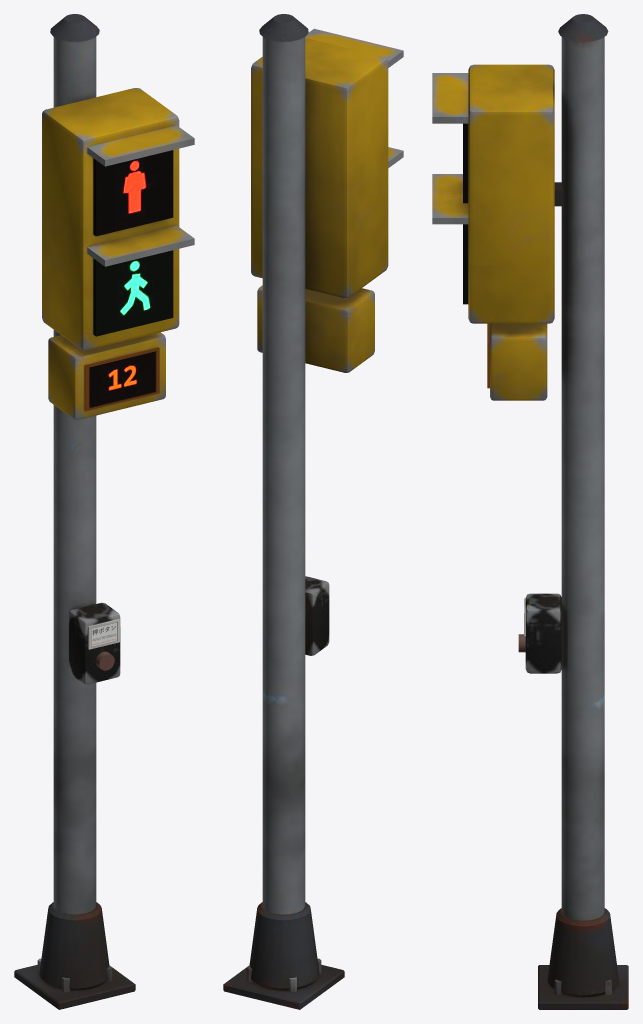
File: ped_signal.glb
The picture shows the model from 3 angles, left to right: view 1: azimuth 30°, elevation 25°; view 2: azimuth 150°, elevation 25°; view 3: azimuth 270°, elevation 25°; orthographic projection.
Parts seen in each view (by area): view 1: ped_signal, Ped_A_Walk, Ped_A_Stop, Ped_A_Count; view 2: ped_signal; view 3: ped_signal, Ped_A_Walk, Ped_A_Stop.
Part boxes in pixels (left/top/right/bottom): ped_signal: left=14, top=14, right=194, bottom=1009; Ped_A_Walk: left=93, top=250, right=173, bottom=336; Ped_A_Stop: left=93, top=150, right=173, bottom=236; Ped_A_Count: left=84, top=347, right=159, bottom=411; ped_signal: left=223, top=14, right=403, bottom=1009; ped_signal: left=432, top=14, right=628, bottom=1009; Ped_A_Walk: left=463, top=224, right=468, bottom=304; Ped_A_Stop: left=463, top=123, right=468, bottom=203.
Size of what is drawn, in the model's own units: 0.32 by 2.99 by 0.546.
1 material, 1 textured.
